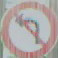Don't turn left: (1, 1, 52, 54)
